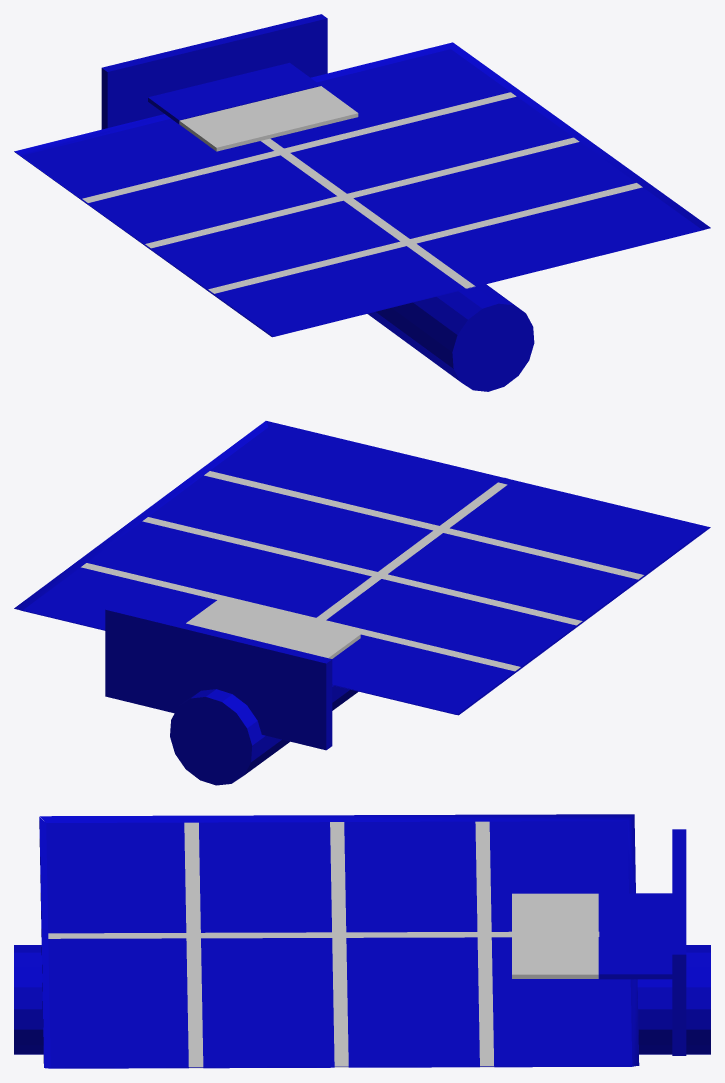
Rendered from battery.obj.
The picture shows the model from 3 angles, top to bottom: view 1: azimuth 30°, elevation 25°; view 2: azimuth 150°, elevation 25°; view 3: azimuth 270°, elevation 25°; orthographic projection. The views are drawn at different scales.
Parts seen in each view (by area): view 1: Cylinder.001; view 2: Cylinder.001; view 3: Cylinder.001.
Part boxes in pixels (bbox=[...]): Cylinder.001: bbox=[14, 14, 710, 391]; Cylinder.001: bbox=[14, 421, 710, 785]; Cylinder.001: bbox=[14, 814, 710, 1068].
Bounding box in the file's own units: 2.15 × 0.638 × 2.5.
